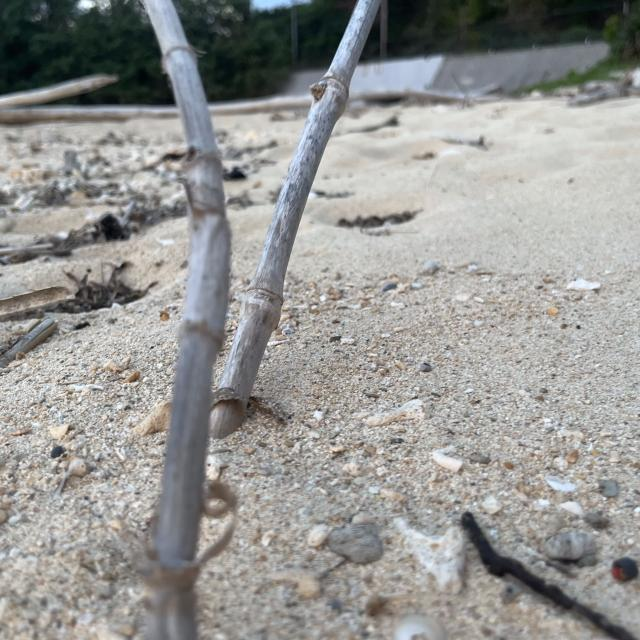seaweed: (60, 256, 152, 324)
stick: (210, 0, 380, 436), (147, 0, 232, 637)
